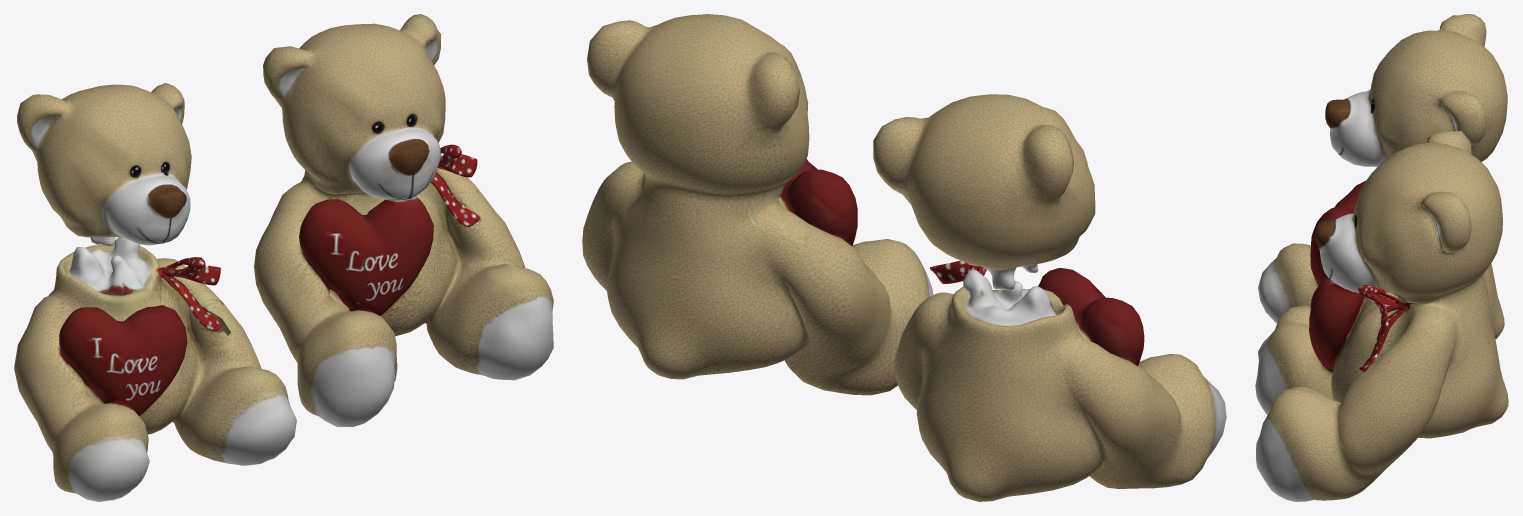
File: tripo_convert_b3363c22-94eb-40d8-add8-bb2f47c3b45c.fbx
3 renders of one model, left to right at view 1: azimuth 30°, elevation 25°; view 2: azimuth 150°, elevation 25°; view 3: azimuth 270°, elevation 25°, orthographic. The views are drawn at different scales.
Parts seen in each view (by area): view 1: tripo_node_b3363c22; view 2: tripo_node_b3363c22; view 3: tripo_node_b3363c22.
Boxes of the visible parts, box(x1,y1,x2,y2) form: tripo_node_b3363c22: box(14, 14, 553, 501); tripo_node_b3363c22: box(582, 14, 1226, 501); tripo_node_b3363c22: box(1255, 14, 1508, 501).
Bounding box in the file's own units: 0.9786 × 0.6507 × 0.4514.
Materials: 1 (1 with a texture image).
